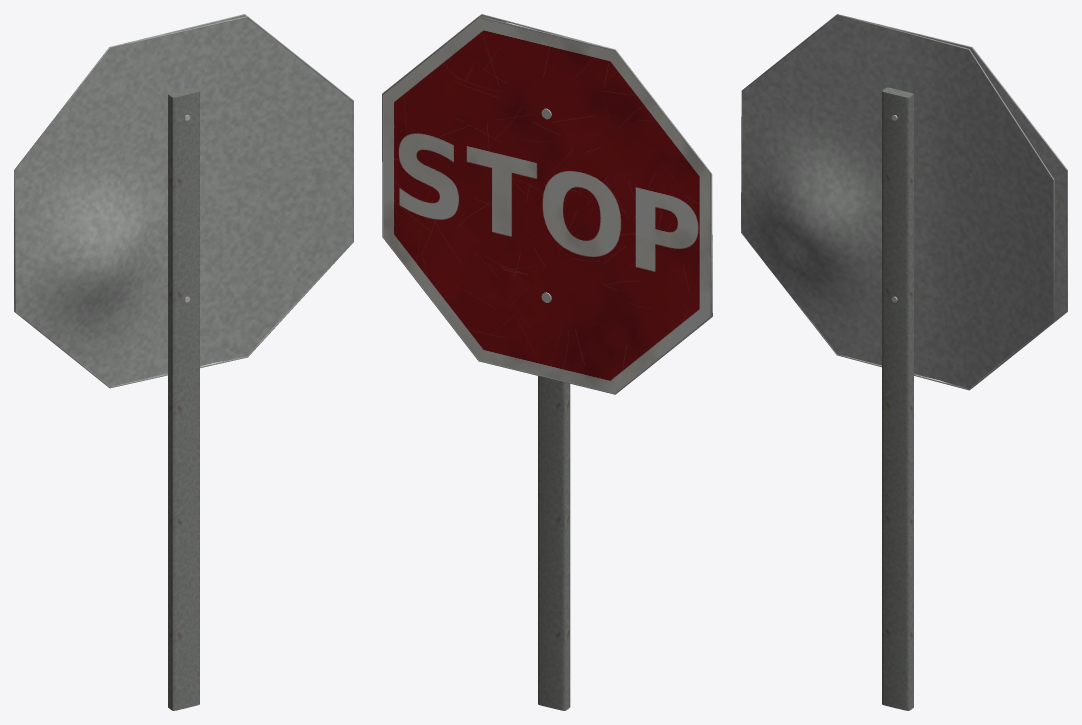
Rendered from stop_sign.glb.
3 renders of one model, left to right at view 1: azimuth 30°, elevation 25°; view 2: azimuth 150°, elevation 25°; view 3: azimuth 330°, elevation 25°, orthographic.
Parts seen in each view (by area): view 1: StopSign_Dented_back, StopSign_Clean_post, StopSign_Clean_back; view 2: StopSign_Clean_face, StopSign_Clean_post, StopSign_Clean_back; view 3: StopSign_Dented_back, StopSign_Clean_post, StopSign_Clean_back.
Part boxes in pixels (x1,y1,x2,y2): StopSign_Dented_back: [14, 16, 353, 388]; StopSign_Clean_post: [168, 87, 199, 710]; StopSign_Clean_back: [14, 14, 246, 380]; StopSign_Clean_face: [383, 17, 710, 393]; StopSign_Clean_post: [538, 376, 570, 710]; StopSign_Clean_back: [382, 16, 712, 394]; StopSign_Dented_back: [741, 14, 1054, 390]; StopSign_Clean_post: [882, 87, 913, 710]; StopSign_Clean_back: [834, 15, 1067, 387].
Size of the model in its own units: 0.7518 by 1.48 by 0.0585.
4 materials, 3 textured.
